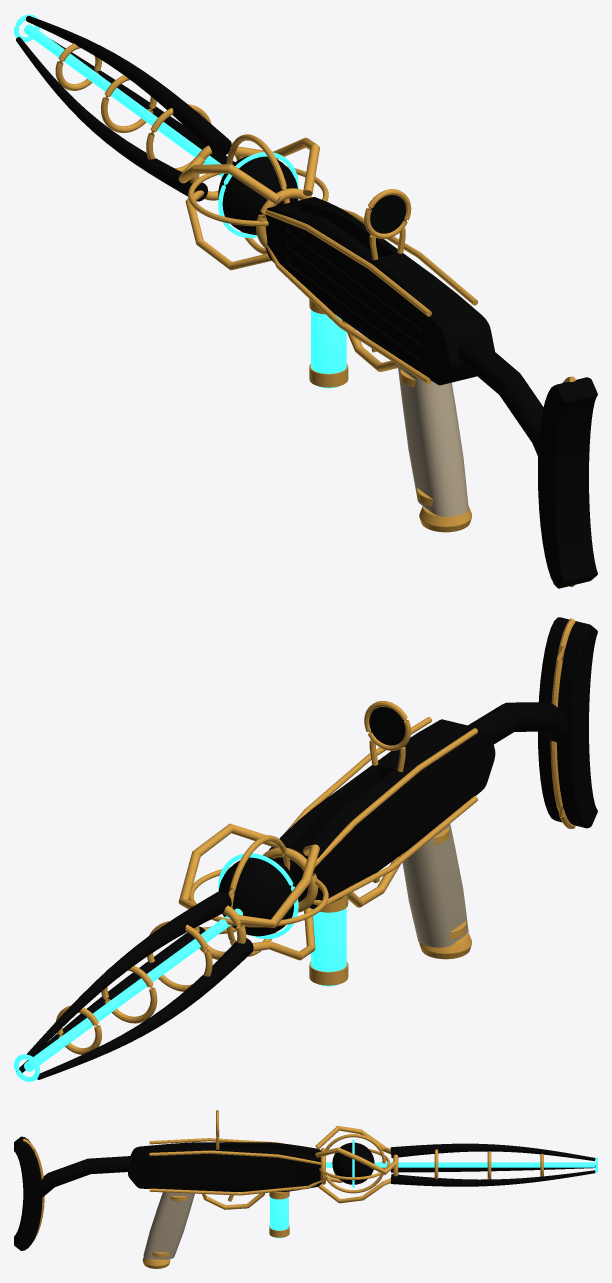
Rendered from eclipse.glb.
3 views of the same model, one above another, from view 1: azimuth 30°, elevation 25°; view 2: azimuth 150°, elevation 25°; view 3: azimuth 270°, elevation 25° (orthographic). The views are drawn at different scales.
Parts seen in each view (by area): view 1: body, crescent, filigree, prongs, grip, stock_arm, core, channel, bands, cell, grip_trim, halo (+4 smaller); view 2: body, filigree, crescent, prongs, grip, core, channel, stock_arm, bands, cell, grip_trim, moon_edge (+6 smaller); view 3: body, prongs, filigree, grip, crescent, stock_arm, channel, core, grip_trim, cell, ring_a_mesh, bands (+3 smaller).
Part boxes in pixels (x1,y1,x2,y2): body: [265, 197, 494, 385]; crescent: [538, 377, 597, 588]; filigree: [178, 137, 477, 384]; prongs: [16, 16, 234, 201]; grip: [397, 365, 468, 516]; stock_arm: [458, 335, 543, 456]; core: [218, 156, 298, 234]; channel: [14, 14, 223, 176]; bands: [55, 43, 211, 172]; cell: [311, 310, 346, 388]; grip_trim: [341, 319, 471, 532]; halo: [364, 189, 411, 260]; body: [269, 719, 495, 908]; filigree: [178, 717, 477, 960]; crescent: [538, 617, 597, 828]; prongs: [16, 891, 253, 1079]; grip: [402, 824, 468, 947]; core: [218, 857, 298, 936]; channel: [14, 908, 242, 1081]; stock_arm: [468, 702, 567, 744]; bands: [55, 921, 212, 1054]; cell: [311, 908, 346, 986]; grip_trim: [348, 827, 471, 959]; moon_edge: [550, 618, 575, 828]; body: [128, 1142, 321, 1191]; prongs: [390, 1143, 595, 1186]; filigree: [149, 1126, 398, 1203]; grip: [143, 1192, 194, 1259]; crescent: [14, 1136, 42, 1250]; stock_arm: [41, 1156, 132, 1197]; channel: [326, 1157, 597, 1172]; core: [332, 1142, 374, 1184]; grip_trim: [142, 1193, 265, 1268]; cell: [270, 1197, 288, 1238]; ring_a_mesh: [325, 1134, 385, 1193]; bands: [434, 1149, 543, 1179].
Bounding box in the file's own units: 0.098 × 0.2225 × 0.7733.
